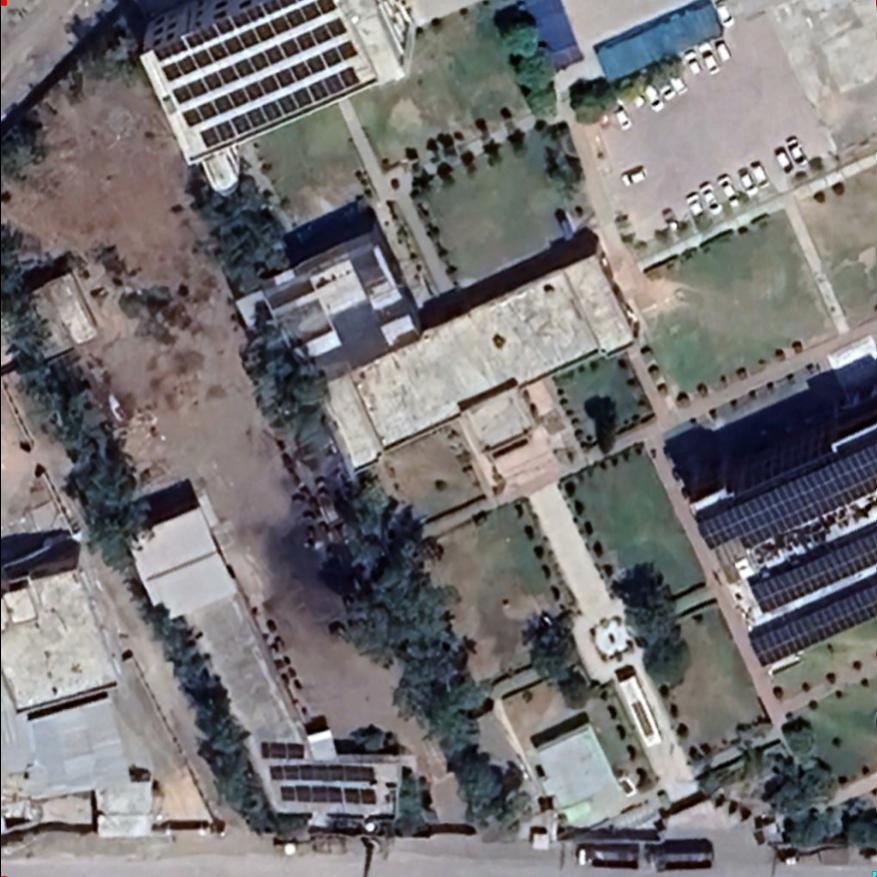Solarpanel: (688, 433, 875, 565), (171, 35, 370, 135), (159, 11, 356, 110), (145, 0, 342, 91), (190, 59, 367, 156), (735, 516, 875, 621), (739, 569, 875, 673), (142, 0, 311, 64), (262, 761, 381, 786), (274, 781, 381, 808), (257, 737, 310, 761)
